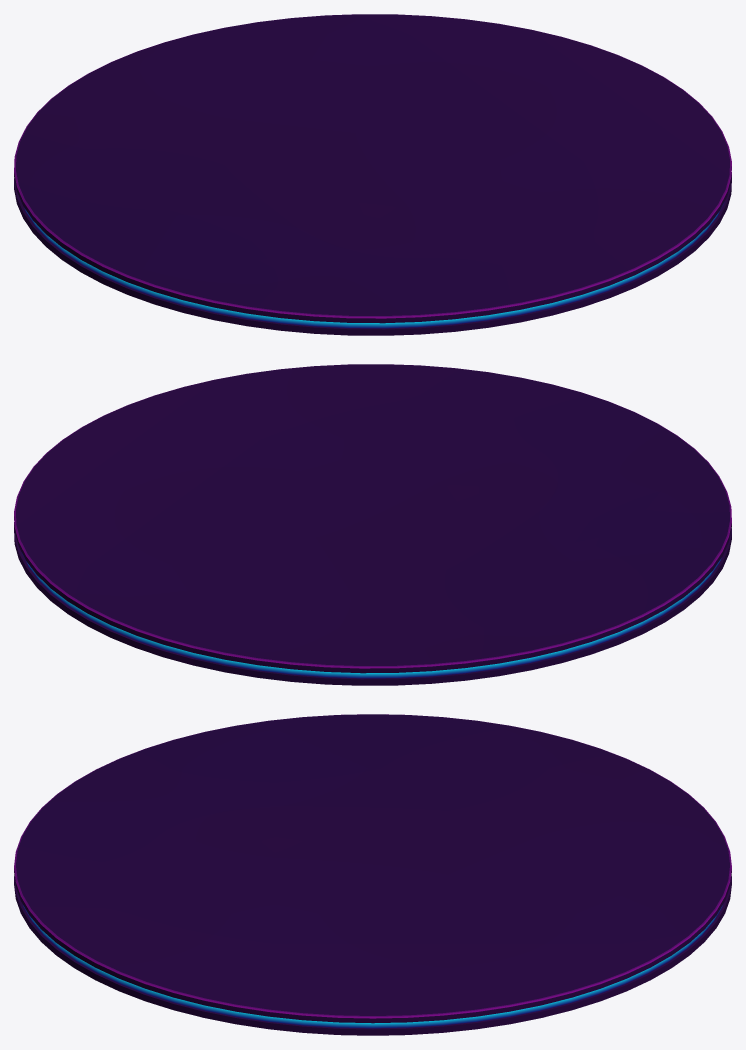
File: podium.glb
The picture shows the model from 3 angles, top to bottom: view 1: azimuth 30°, elevation 25°; view 2: azimuth 150°, elevation 25°; view 3: azimuth 270°, elevation 25°; orthographic projection.
Visible parts, largest first — view 1: Podium; view 2: Podium; view 3: Podium.
Part boxes in pixels (x1,y1,x2,y2): Podium: (14, 14, 731, 335); Podium: (14, 364, 731, 685); Podium: (14, 714, 731, 1035).
Size of what is drawn, in the model's own units: 7.58 by 0.4841 by 7.58.
2 materials, 2 textured.
